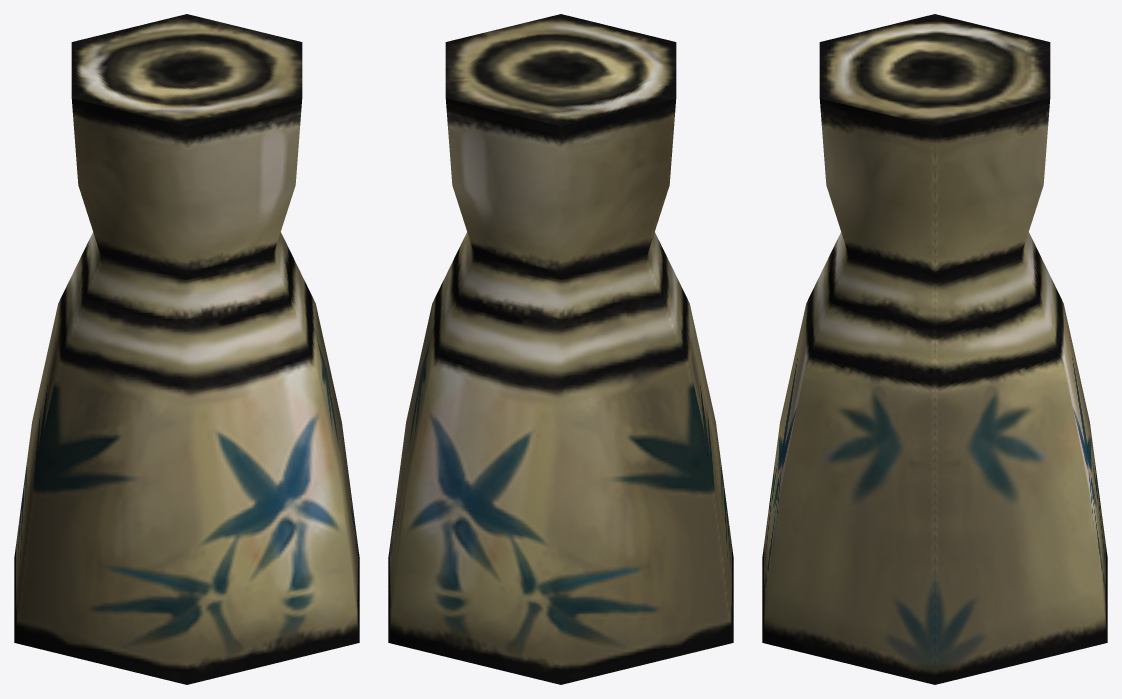
Rendered from GAM_Drink.FBX.
3 views of the same model, side by side, from view 1: azimuth 30°, elevation 25°; view 2: azimuth 150°, elevation 25°; view 3: azimuth 270°, elevation 25° (orthographic).
Visible parts, largest first — view 1: GAM_Drink; view 2: GAM_Drink; view 3: GAM_Drink.
Part boxes in pixels (x1,y1,x2,y2): GAM_Drink: (14, 14, 359, 684); GAM_Drink: (388, 14, 733, 684); GAM_Drink: (762, 14, 1107, 684).
Size of the model in its own units: 36.96 by 54.23 by 32.01.
1 material, 1 textured.
